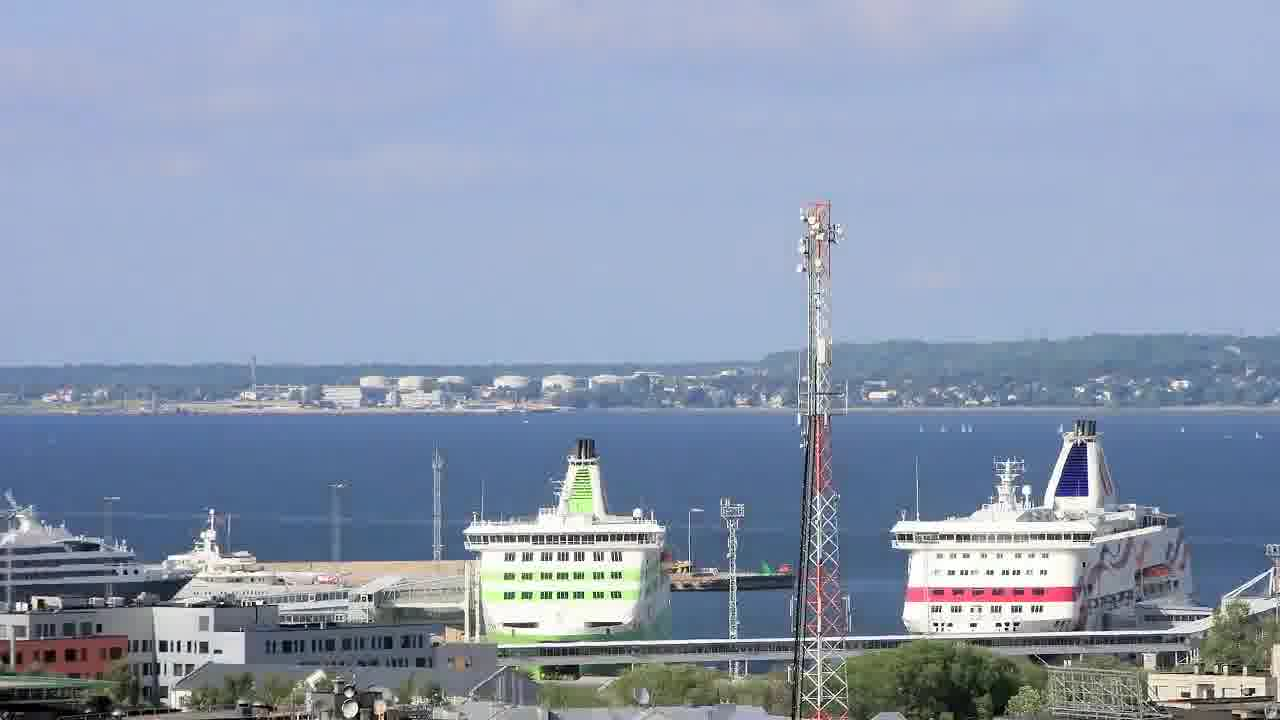type-3: (868, 415, 1225, 638), (436, 434, 694, 670), (0, 488, 204, 607), (159, 524, 345, 609)
